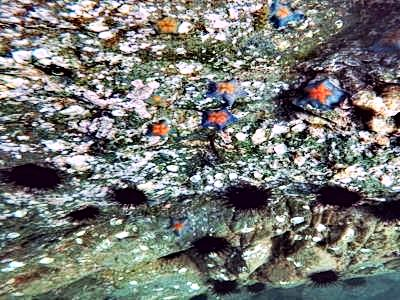urchin: (8, 160, 60, 191), (313, 183, 360, 207), (226, 183, 271, 208), (307, 267, 340, 287), (112, 185, 146, 204), (192, 235, 226, 254), (211, 276, 237, 294), (375, 198, 396, 219), (68, 204, 97, 218)
